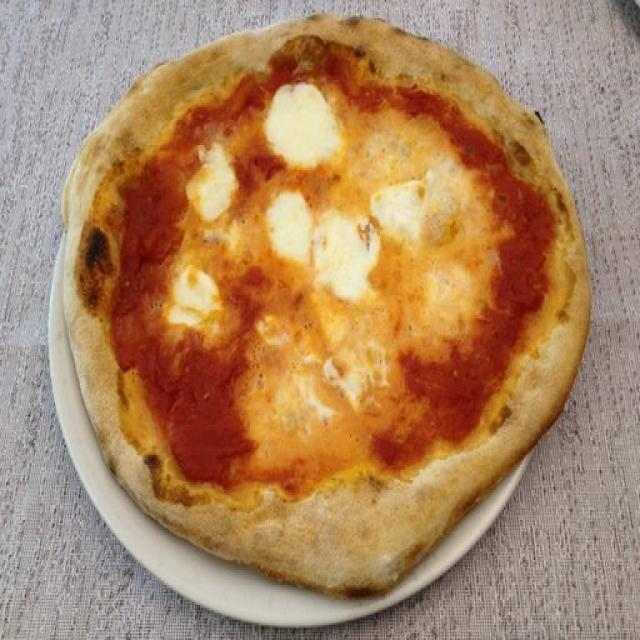Cheese: (267, 79, 339, 172), (313, 212, 379, 304), (266, 189, 314, 265), (160, 264, 222, 322), (189, 150, 238, 215), (377, 178, 430, 237)
Pizza: (62, 15, 586, 597)
